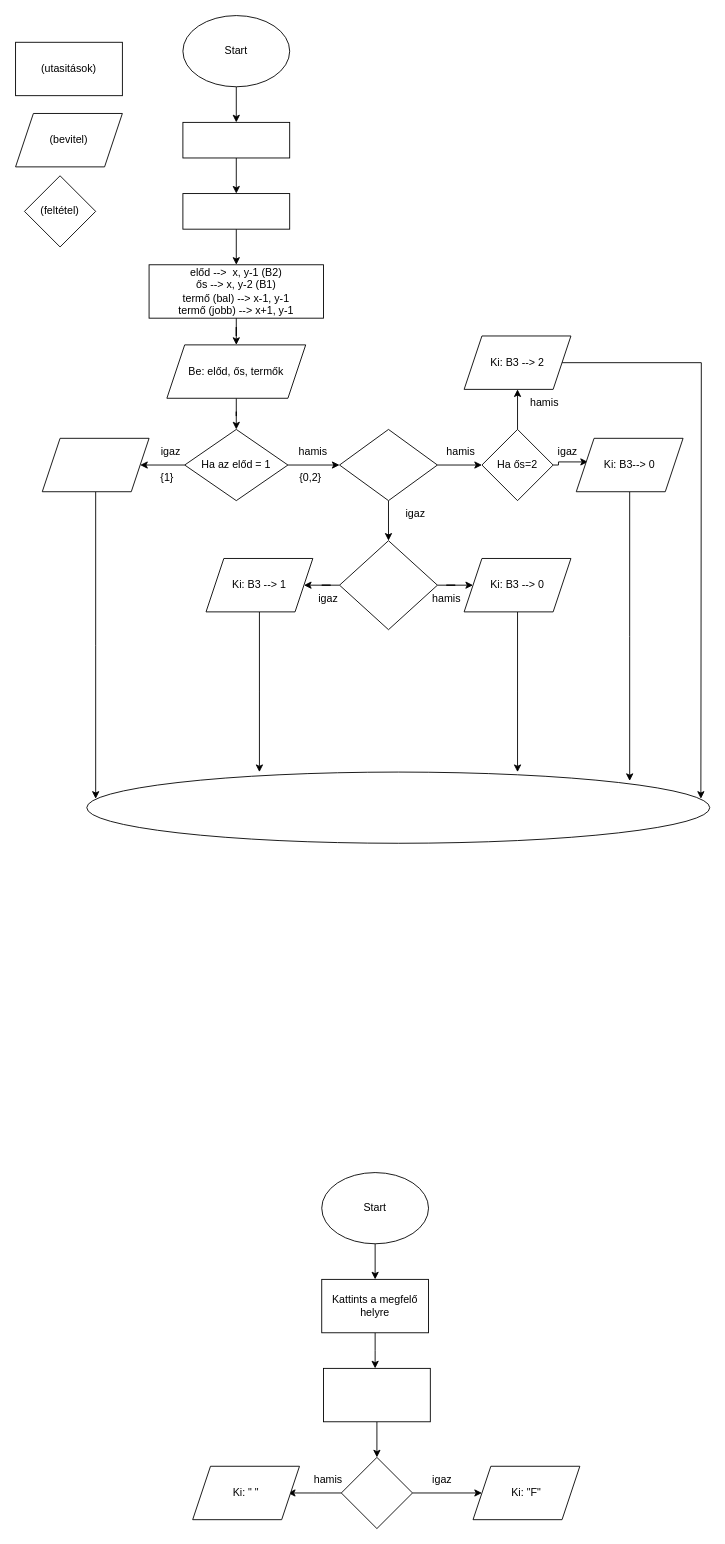
The diagram is 725 pixels wide and 1544 high, and some of its shapes have lost their labels. Each missing label, with the centre of its shape:
"B3--> x,y" belongs at point 236,211.
"Ha az előd = 0" belongs at point 388,465.
"Ha termő1=2 || termő2 = 2" belongs at point 388,585.
"Ha x>=6" belongs at point 376,1492.
"Kattints a b3-ba" belongs at point 236,139.
"Ki: B3 -->2" belongs at point 95,464.
"Stop" belongs at point 398,807.
"véletlen szerű szám" belongs at point 376,1394.
